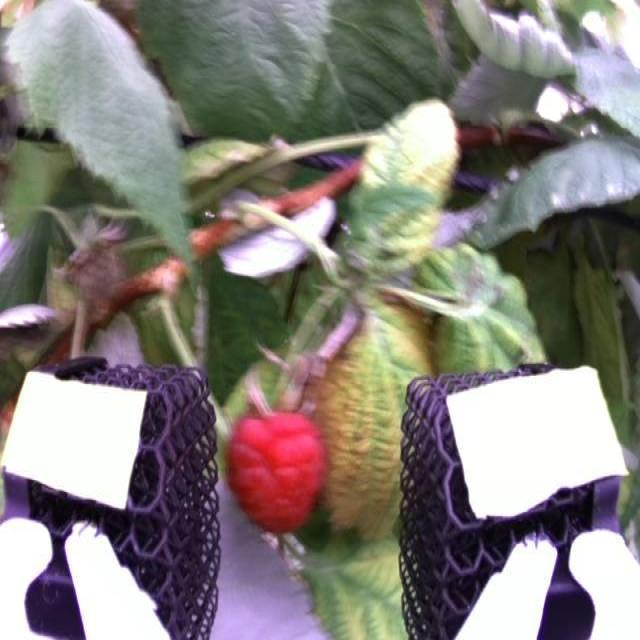Riped berries: (224, 390, 326, 524)
